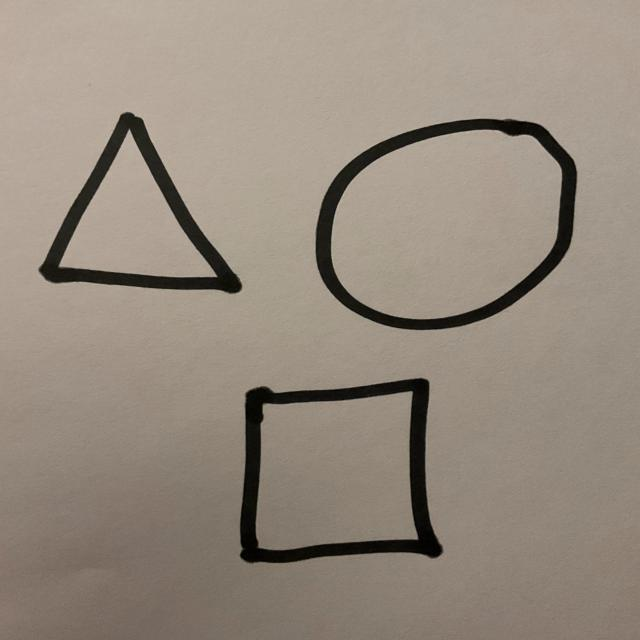Dreieck: (38, 113, 243, 296)
Kreis: (314, 118, 580, 334)
Quadrat: (239, 378, 443, 566)
